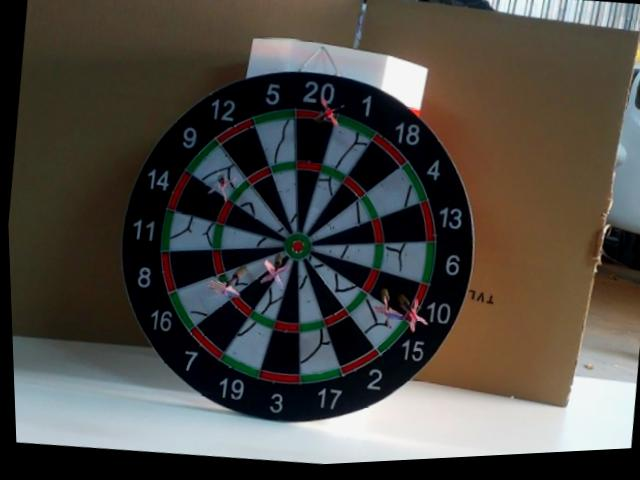single_10: (371, 273, 419, 316)
single_16: (227, 254, 286, 292)
single_20: (296, 118, 333, 165)
single_9: (193, 146, 246, 198)
